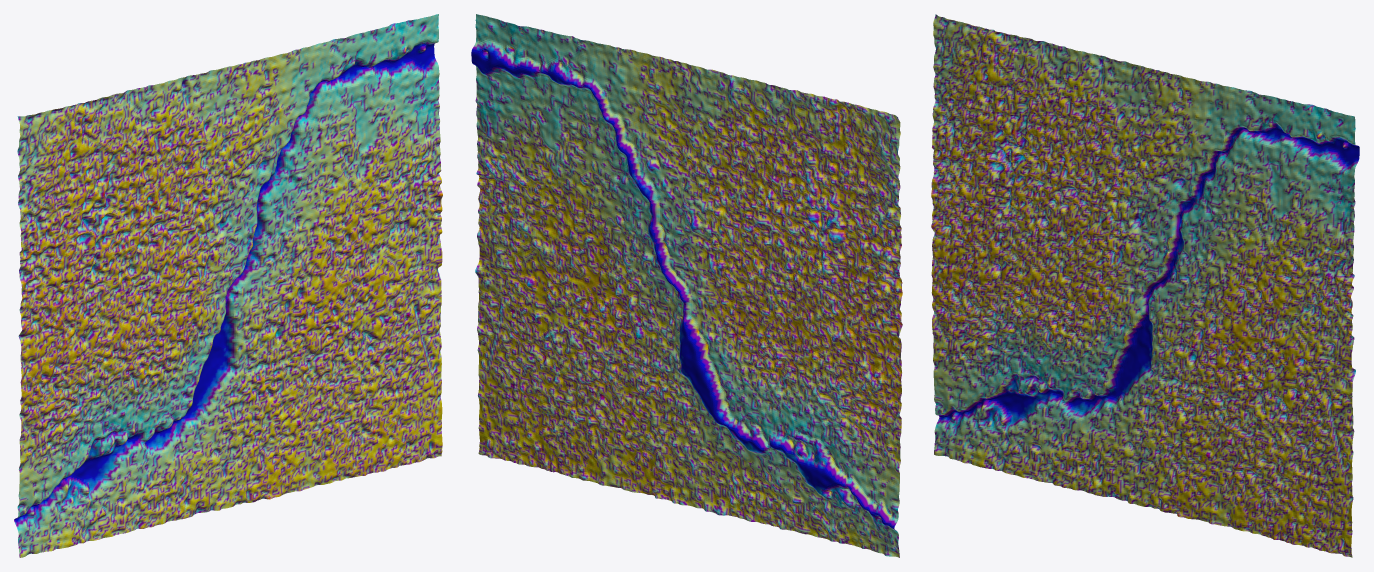
3 renders of one model, left to right at view 1: azimuth 30°, elevation 25°; view 2: azimuth 150°, elevation 25°; view 3: azimuth 330°, elevation 25°, orthographic.
Parts seen in each view (by area): view 1: world; view 2: world; view 3: world.
Boxes of the visible parts, x1,y1,x2,y2 form: world: (14,14,442,557); world: (471,14,902,557); world: (931,14,1359,557).
Size of the model in its own units: 299 by 299 by 12.
